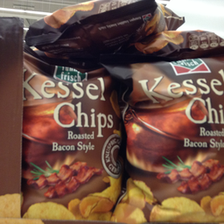chips: (116, 59, 223, 224), (21, 64, 123, 219)
